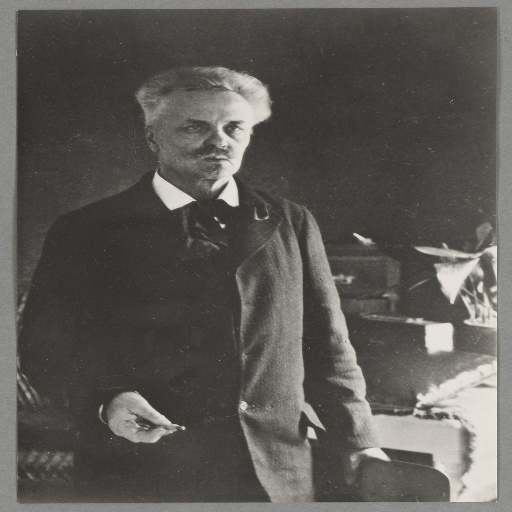hand: (97, 389, 188, 449), (338, 445, 392, 483)
